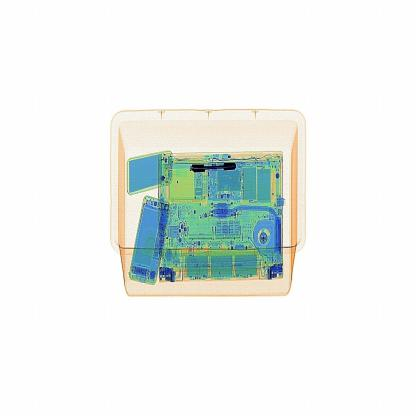knife: (189, 152, 245, 182)
